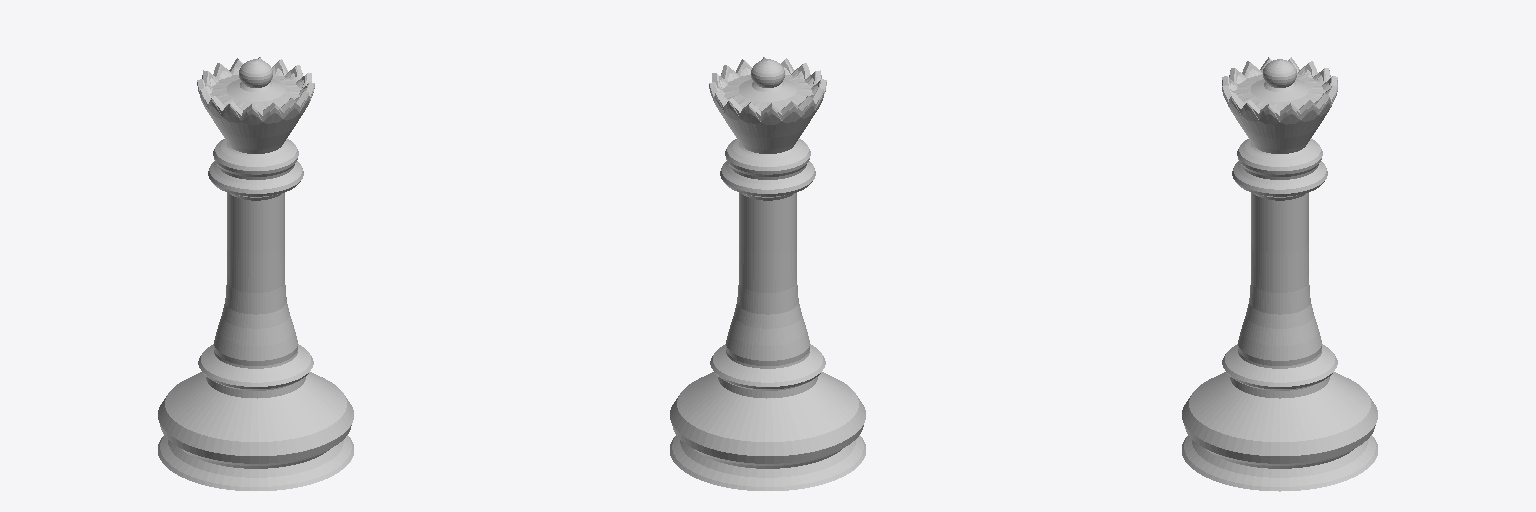
The model's file is black-queen.obj.
3 views of the same model, side by side, from view 1: azimuth 30°, elevation 25°; view 2: azimuth 150°, elevation 25°; view 3: azimuth 270°, elevation 25° (orthographic).
Visible parts, largest first — view 1: Queen_Circle.004; view 2: Queen_Circle.004; view 3: Queen_Circle.004.
Boxes of the visible parts, x1=… form: Queen_Circle.004: x1=158, y1=57, x2=353, y2=490; Queen_Circle.004: x1=670, y1=57, x2=865, y2=490; Queen_Circle.004: x1=1182, y1=57, x2=1377, y2=491.
Bounding box in the file's own units: 1.35 × 2.95 × 1.35.